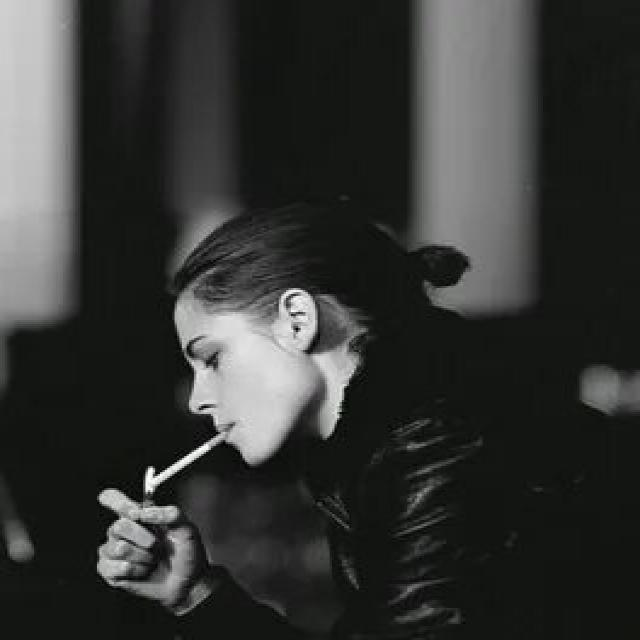cigarette: (138, 424, 233, 492)
